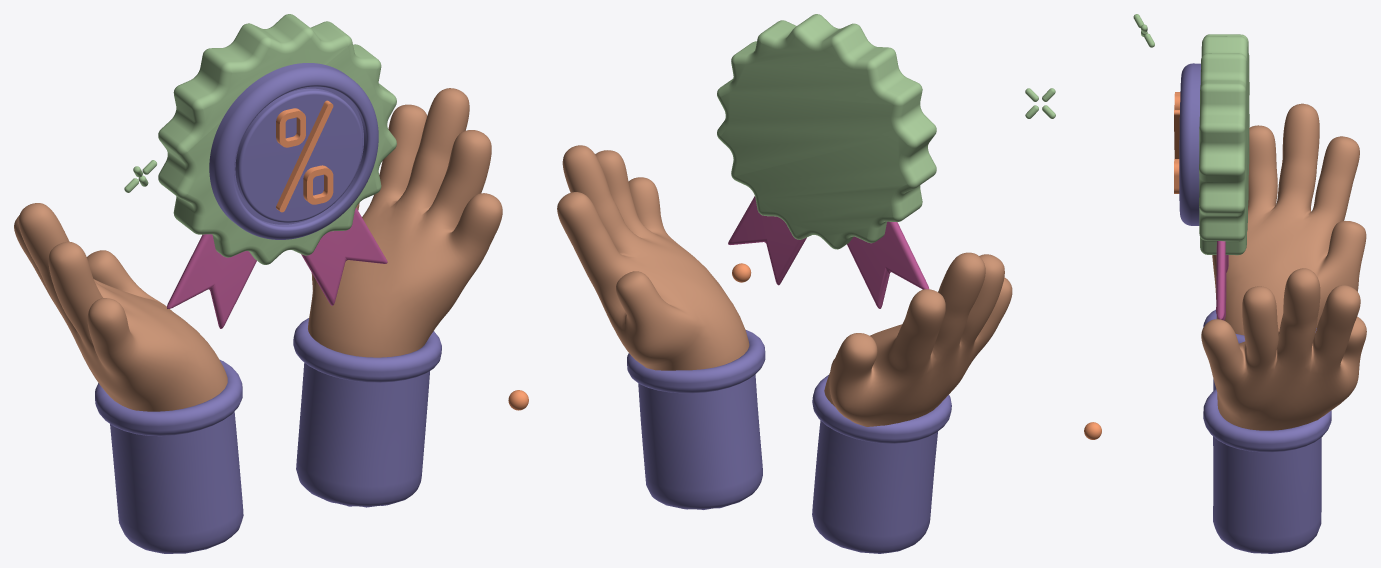
The model's file is discount-3d-animated-icon-1616192194046.glb.
3 renders of one model, left to right at view 1: azimuth 30°, elevation 25°; view 2: azimuth 150°, elevation 25°; view 3: azimuth 270°, elevation 25°, orthographic. The views are drawn at different scales.
Visible parts, largest first — view 1: HAND.001, Cylinder, Circle, HAND.003, HAND.005, HAND.002, Plane, HAND.004, HAND.006, Curve.002; view 2: Circle, HAND.001, HAND.003, HAND.005, HAND.002, Plane, HAND.004, HAND.006; view 3: HAND.003, HAND.001, HAND.005, Circle, Cylinder, HAND.004, Plane, Curve.002.
Boxes of the visible parts, x1,y1,x2,y2 form: HAND.001: [308, 88, 502, 357]; Cylinder: [209, 63, 378, 239]; Circle: [158, 14, 396, 264]; HAND.003: [14, 203, 227, 411]; HAND.005: [296, 362, 429, 507]; HAND.002: [110, 411, 243, 553]; Plane: [167, 207, 387, 328]; HAND.004: [293, 318, 441, 382]; HAND.006: [95, 359, 242, 436]; Curve.002: [276, 100, 333, 212]; Circle: [717, 14, 936, 249]; HAND.001: [557, 145, 749, 370]; HAND.003: [824, 252, 1012, 426]; HAND.005: [638, 374, 762, 509]; HAND.002: [812, 420, 937, 553]; Plane: [728, 196, 929, 308]; HAND.004: [627, 330, 765, 393]; HAND.006: [812, 375, 951, 443]; HAND.003: [1212, 103, 1366, 335]; HAND.001: [1201, 268, 1366, 430]; HAND.005: [1213, 436, 1321, 553]; Circle: [1199, 34, 1249, 255]; Cylinder: [1179, 63, 1200, 225]; HAND.004: [1203, 389, 1331, 452]; Plane: [1216, 241, 1228, 320]; Curve.002: [1174, 92, 1180, 193].
Bounding box in the file's own units: 1.96 × 2.14 × 1.23.
